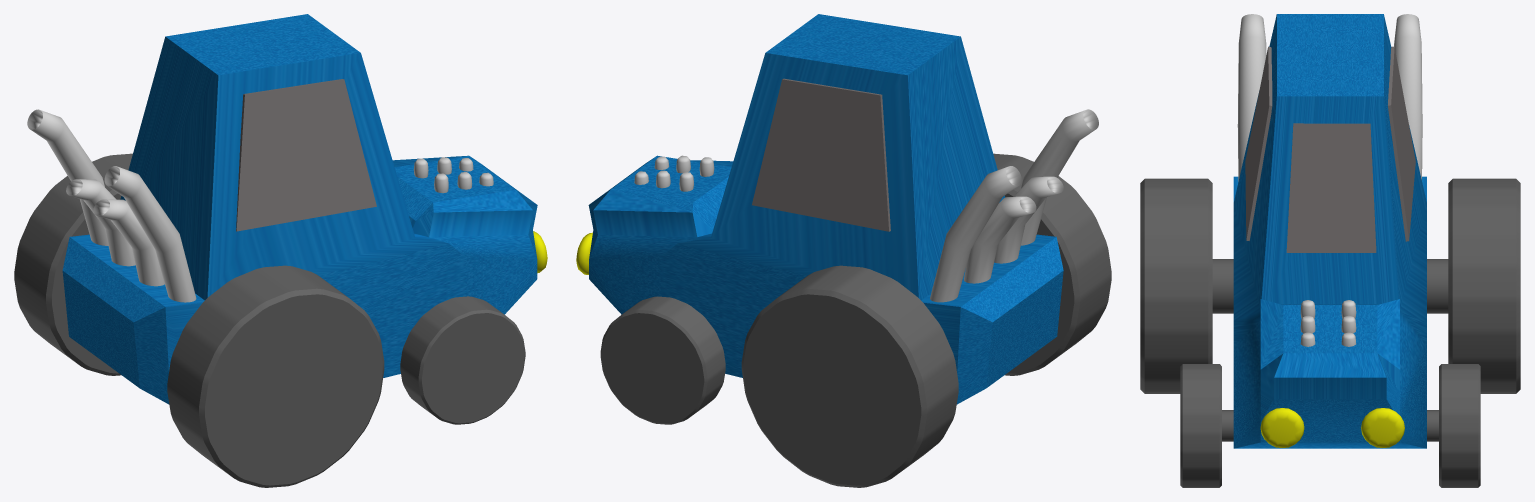
The model's file is Swagtror.fbx.
The picture shows the model from 3 angles, left to right: view 1: azimuth 30°, elevation 25°; view 2: azimuth 150°, elevation 25°; view 3: azimuth 270°, elevation 25°; orthographic projection.
Visible parts, largest first — view 1: polySurface39; view 2: polySurface39; view 3: polySurface39.
Boxes of the visible parts, x1=… form: polySurface39: x1=14, y1=14, x2=547, y2=487; polySurface39: x1=576, y1=14, x2=1111, y2=487; polySurface39: x1=1140, y1=14, x2=1520, y2=487.
Bounding box in the file's own units: 14.43 × 11.23 × 10.56.
Materials: 7 (1 with a texture image).
